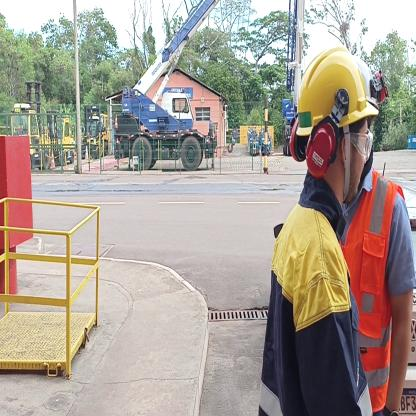C_eletrica: (265, 204, 371, 416)
Capacete: (294, 44, 382, 131)
colete: (365, 180, 404, 402)
